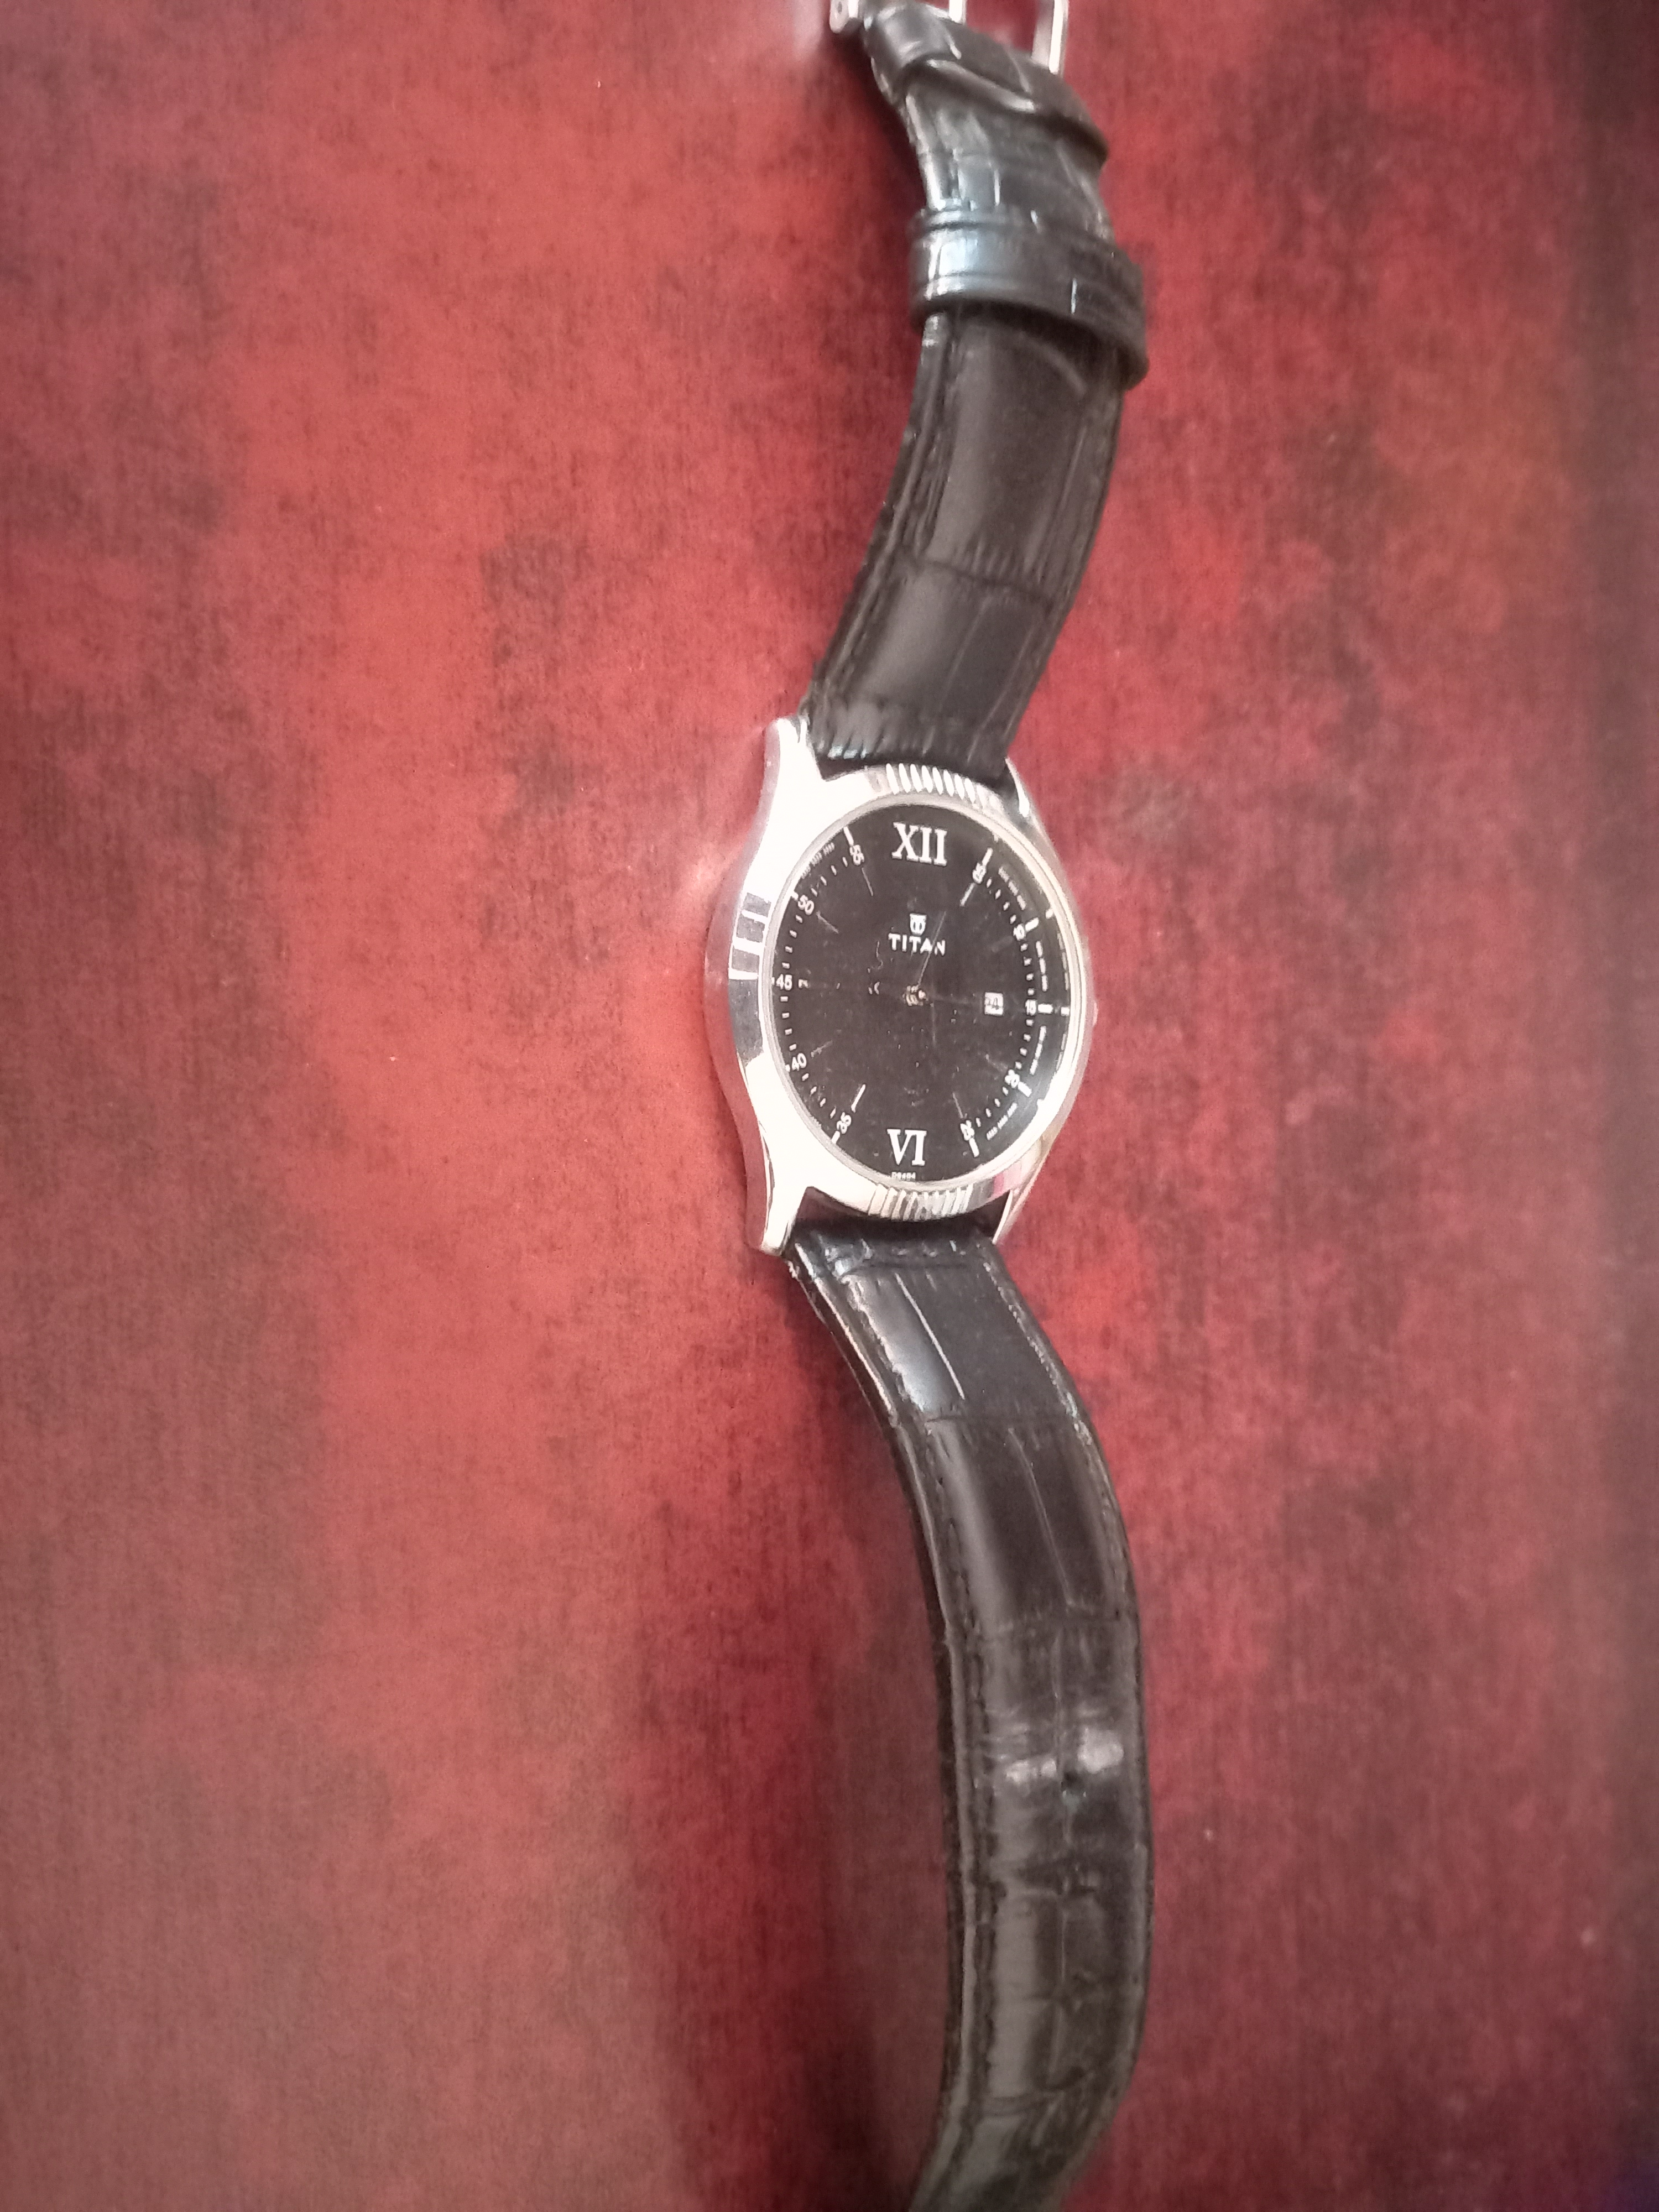watch: (763, 5, 1213, 2212)
